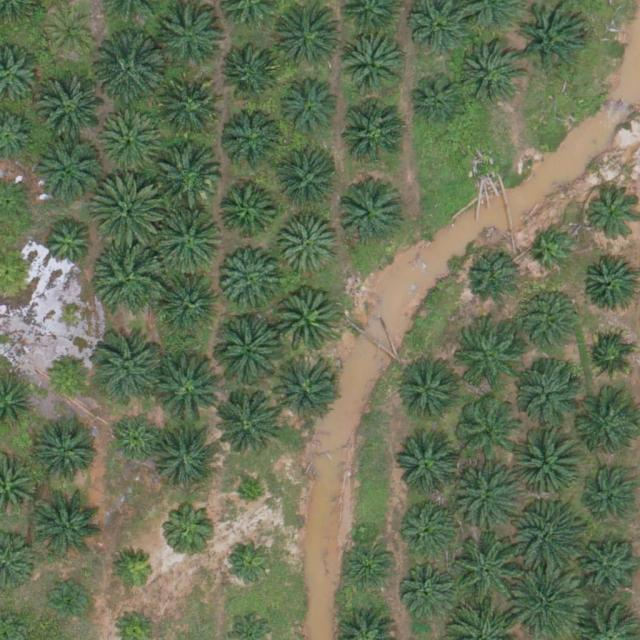Healthy: (514, 569, 585, 640), (514, 354, 585, 425), (96, 242, 167, 313), (94, 35, 165, 106), (35, 490, 105, 561), (514, 500, 585, 570), (514, 426, 584, 497), (270, 354, 340, 425), (152, 354, 222, 425), (154, 203, 224, 274), (93, 173, 163, 244), (94, 335, 165, 405), (155, 422, 225, 493), (515, 4, 585, 75), (152, 140, 223, 210), (450, 464, 520, 534), (454, 535, 524, 605), (272, 287, 342, 357), (212, 317, 282, 387), (210, 390, 280, 460), (36, 77, 106, 147), (33, 135, 103, 205), (452, 328, 515, 391), (399, 557, 462, 620), (397, 494, 460, 557), (397, 436, 460, 499), (277, 154, 340, 217), (219, 249, 282, 312), (342, 102, 405, 165), (36, 419, 98, 482), (576, 540, 638, 603), (519, 287, 582, 349), (456, 398, 518, 461), (401, 358, 463, 421), (337, 185, 399, 248), (279, 216, 341, 279), (215, 181, 277, 244), (161, 272, 223, 335), (458, 43, 520, 106), (339, 34, 401, 97), (277, 77, 340, 139), (222, 105, 285, 167), (220, 40, 283, 102), (157, 79, 219, 142), (100, 111, 162, 174), (162, 9, 224, 71), (109, 414, 164, 469), (585, 190, 640, 245), (223, 534, 278, 589), (466, 250, 521, 305), (340, 536, 395, 591), (163, 499, 218, 554), (40, 217, 95, 272), (583, 256, 637, 311), (583, 329, 637, 384), (581, 468, 635, 523), (412, 73, 466, 128)
Small: (45, 352, 92, 400), (47, 578, 94, 626), (531, 228, 578, 276), (112, 547, 159, 594), (236, 481, 267, 512)
Yellow: (44, 6, 99, 61)
